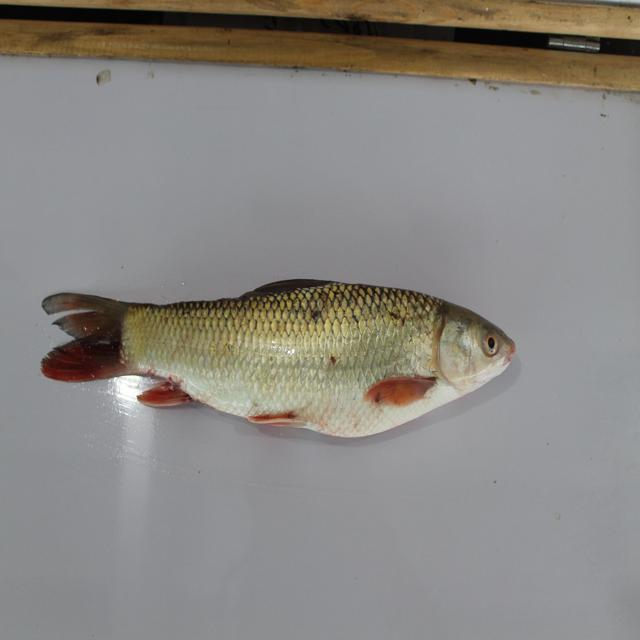Mori: (35, 249, 547, 450)
